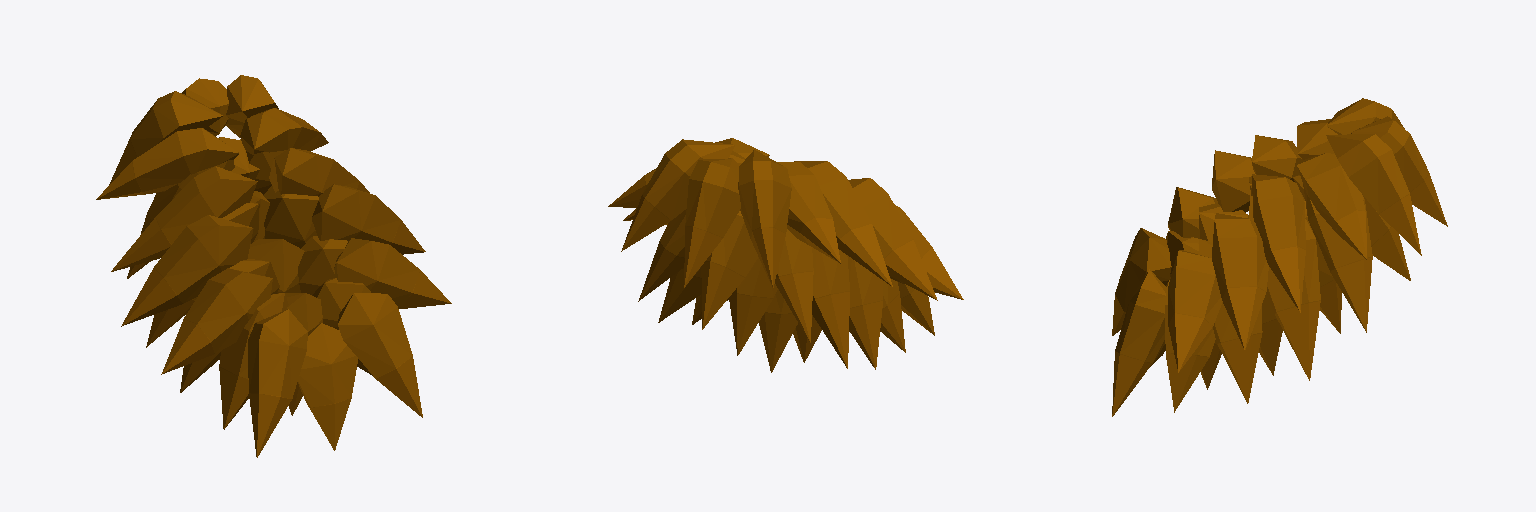
3 views of the same model, side by side, from view 1: azimuth 30°, elevation 25°; view 2: azimuth 150°, elevation 25°; view 3: azimuth 270°, elevation 25° (orthographic).
Parts seen in each view (by area): view 1: mat_0; view 2: mat_0; view 3: mat_0.
Part boxes in pixels (left/top/right/bottom): mat_0: left=96, top=75, right=451, bottom=457; mat_0: left=608, top=138, right=963, bottom=372; mat_0: left=1112, top=98, right=1447, bottom=416.
Size of the model in its own units: 9.19 by 7.95 by 8.76.
Materials: 1 (1 with a texture image).